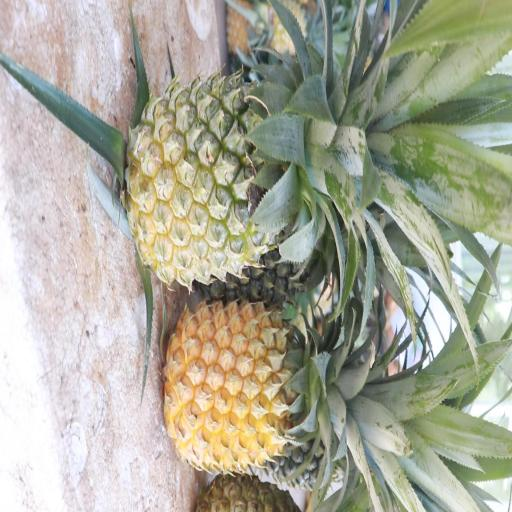------------------------------: (130, 80, 328, 282)
Pineapple - v8 v1: (168, 300, 346, 474)
